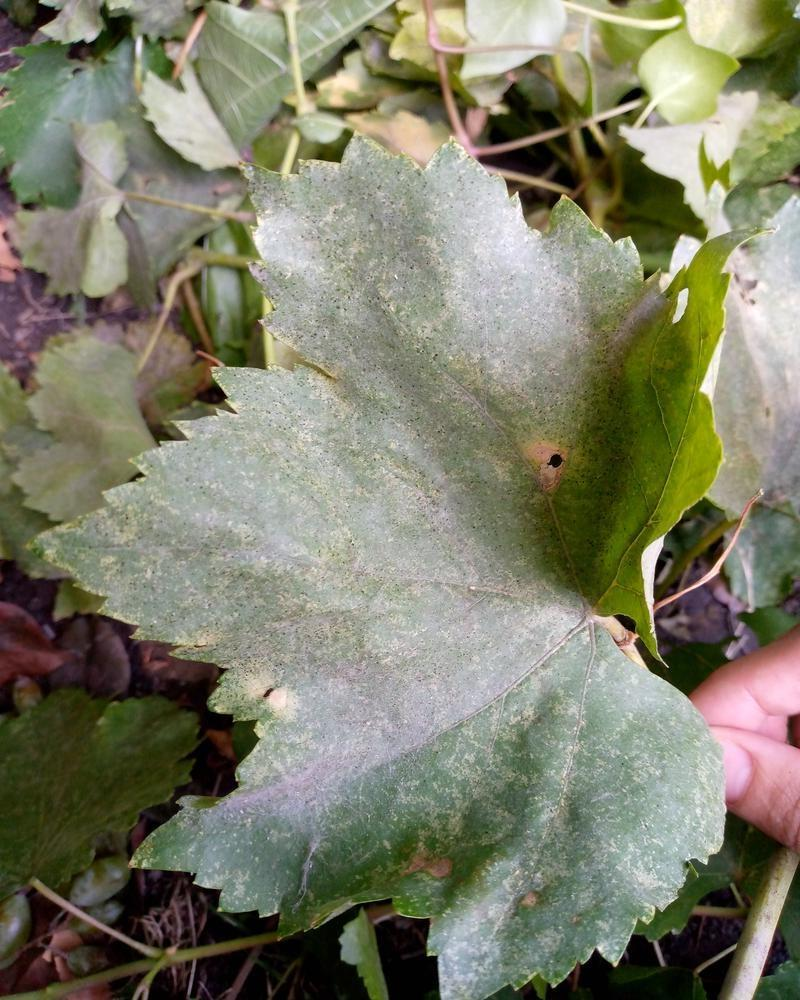Powdery-Mildew: (252, 655, 476, 823), (415, 189, 591, 393), (522, 416, 598, 494), (259, 210, 322, 273), (242, 658, 305, 721)
